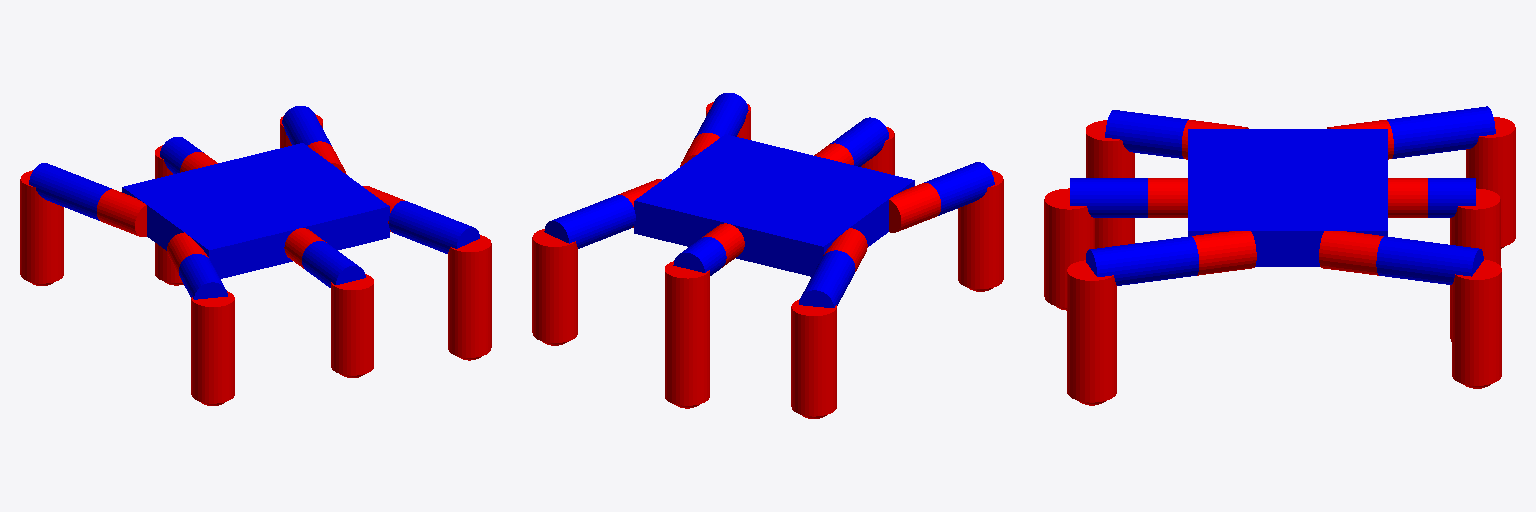
--- Render facts (derived) ---
Views: 3 orthographic renders of the robot side by side, from view 1: azimuth 30°, elevation 25°; view 2: azimuth 150°, elevation 25°; view 3: azimuth 270°, elevation 25°.
Robot: pexod — 19 links, 18 joints (18 revolute); root link base_link; default pose: every joint at zero.
Visible links, largest first — view 1: base_link, leg_3_3, leg_5_3, leg_4_3, leg_0_3, leg_3_2, leg_0_2, leg_4_2, leg_0_1, leg_5_2, leg_2_2, leg_1_3 (+3 smaller); view 2: base_link, leg_1_3, leg_0_3, leg_2_3, leg_5_3, leg_2_2, leg_0_2, leg_5_2, leg_5_1, leg_4_2, leg_3_2, leg_1_2 (+3 smaller); view 3: base_link, leg_3_3, leg_2_3, leg_4_3, leg_3_2, leg_0_2, leg_2_2, leg_0_3, leg_5_3, leg_4_2, leg_5_2, leg_1_3 (+6 smaller).
Link boxes in pixels (box(x1,y1,x2,y2)): base_link: box(122, 143, 389, 278); leg_3_3: box(448, 235, 491, 360); leg_5_3: box(191, 291, 234, 405); leg_4_3: box(331, 274, 373, 377); leg_0_3: box(20, 170, 63, 285); leg_3_2: box(389, 201, 479, 253); leg_0_2: box(29, 163, 111, 220); leg_4_2: box(302, 241, 365, 287); leg_0_1: box(97, 189, 146, 236); leg_5_2: box(179, 254, 227, 299); leg_2_2: box(282, 106, 331, 145); leg_1_3: box(155, 145, 183, 285); base_link: box(634, 134, 914, 276); leg_1_3: box(665, 261, 709, 408); leg_0_3: box(791, 299, 836, 418); leg_2_3: box(532, 229, 577, 345); leg_5_3: box(958, 170, 1003, 291); leg_2_2: box(544, 195, 635, 248); leg_0_2: box(799, 250, 855, 307); leg_5_2: box(924, 162, 994, 215); leg_5_1: box(889, 183, 940, 232); leg_4_2: box(830, 117, 888, 166); leg_3_2: box(694, 93, 748, 138); leg_1_2: box(673, 237, 726, 275); base_link: box(1188, 129, 1387, 266); leg_3_3: box(1067, 260, 1116, 405); leg_2_3: box(1452, 259, 1501, 388); leg_4_3: box(1044, 188, 1094, 310); leg_3_2: box(1086, 236, 1198, 285); leg_0_2: box(1387, 106, 1495, 158); leg_2_2: box(1376, 236, 1483, 284); leg_0_3: box(1466, 117, 1515, 248); leg_5_3: box(1086, 120, 1134, 248); leg_4_2: box(1070, 178, 1147, 217); leg_5_2: box(1105, 110, 1188, 158); leg_1_3: box(1450, 188, 1500, 341).
Bounding box of the posed robot: 0.3882 × 0.4705 × 0.1869 m (x, y, z).
Geometry: primitives only (box / cylinder / sphere), no mesh files.

URDF robot description (pexod):
<?xml version="1.0" ?>
<!-- =================================================================================== -->
<!-- |    This document was autogenerated by xacro from pexod.xacro                    | -->
<!-- |    EDITING THIS FILE BY HAND IS NOT RECOMMENDED                                 | -->
<!-- =================================================================================== -->
<robot name="pexod" xmlns:xacro="http://www.ros.org/wiki/xacro">
  <!-- <xacro:include filename="$(find pexod_description)/urdf/pexod_control.xacro" /> -->
  <!-- MATERIALS -->
  <material name="Blue">
    <color rgba="0 0 1 1"/>
  </material>
  <material name="Red">
    <color rgba="1 0 0 1"/>
  </material>
  <material name="Green">
    <color rgba="0 1 0 1"/>
  </material>
  <material name="Yellow">
    <color rgba="1 1 0 1"/>
  </material>
  <material name="LightGrey">
    <color rgba="0.6 0.6 0.6 1.0"/>
  </material>
  <!-- END OF MATERIALS -->
  <!-- XACRO MACROS FOR VISUALS AND COLLISIONS -->
  <!-- END OF XACRO MACROS -->
  <!-- TORSO -->
  <link name="base_link">
    <visual>
      <origin rpy="0 0 0" xyz="0 0 0"/>
      <geometry>
        <box size="0.24 0.2 0.04"/>
      </geometry>
      <material name="Blue"/>
    </visual>
    <collision>
      <origin rpy="0 0 0" xyz="0 0 0"/>
      <geometry>
        <box size="0.24 0.2 0.04"/>
      </geometry>
    </collision>
    <inertial>
      <!-- CENTER OF MASS -->
      <origin rpy="0 0 0" xyz="0 0 0"/>
      <mass value="1.031"/>
      <!-- box inertia: 1/12*m(y^2+z^2), ... -->
      <inertia ixx="0.00357413333333" ixy="0" ixz="0" iyy="0.00508626666667" iyz="0" izz="0.00838546666667"/>
    </inertial>
  </link>
  <!-- XACRO MACRO FOR LEGS LINKS/JOINTS -->
  <!-- END OF LEG LINKS/JOINTS -->
  <joint name="body_leg_2" type="revolute">
    <parent link="base_link"/>
    <child link="leg_2_1"/>
    <limit effort="30.0" lower="-1.57079632679" upper="1.57079632679" velocity="7.0"/>
    <origin rpy="0 0 -0.3" xyz="0.11 0.04 0"/>
    <!-- <xacro:if value="${index == 5 or index == 4 or index == 3}">
                <axis xyz="0 0 1"/>
            </xacro:if>
            <xacro:if value="${index == 2 or index == 1 or index == 0}"> -->
    <axis xyz="0 0 1"/>
    <!-- </xacro:if> -->
    <dynamics damping="0.0"/>
  </joint>
  <link name="leg_2_1">
    <visual>
      <origin rpy="1.57079632679 0 0" xyz="0.01 0.03 0"/>
      <geometry>
        <cylinder length="0.06" radius="0.02"/>
      </geometry>
      <material name="Red"/>
    </visual>
    <collision>
      <origin rpy="1.57079632679 0 0" xyz="0.01 0.03 0"/>
      <geometry>
        <box size="0.02 0.02 0.06"/>
      </geometry>
    </collision>
    <inertial>
      <!-- CENTER OF MASS -->
      <origin rpy="1.57079632679 0 0" xyz="0.01 0.03 0"/>
      <mass value="0.02"/>
      <!-- box inertia: 1/12*m(y^2+z^2), ... -->
      <inertia ixx="6.66666666667e-06" ixy="0" ixz="0" iyy="6.66666666667e-06" iyz="0" izz="1.33333333333e-06"/>
    </inertial>
  </link>
  <joint name="leg_2_1_2" type="revolute">
    <parent link="leg_2_1"/>
    <child link="leg_2_2"/>
    <limit effort="30.0" lower="-0.78539816339" upper="0.78539816339" velocity="7.0"/>
    <origin rpy="0 0 0" xyz="0 0.06 0"/>
    <axis xyz="1 0 0"/>
    <dynamics damping="0.0"/>
  </joint>
  <link name="leg_2_2">
    <visual>
      <origin rpy="1.57079632679 0 0" xyz="0.01 0.0499084490793 0"/>
      <geometry>
        <cylinder length="0.0998168981585" radius="0.02"/>
      </geometry>
      <material name="Blue"/>
    </visual>
    <collision>
      <origin rpy="1.57079632679 0 0" xyz="0.01 0.0499084490793 0"/>
      <geometry>
        <box size="0.02 0.02 0.0998168981585"/>
      </geometry>
    </collision>
    <inertial>
      <!-- CENTER OF MASS -->
      <origin rpy="1.57079632679 0 0" xyz="0.01 0.0499084490793 0"/>
      <mass value="0.184"/>
      <!-- box inertia: 1/12*m(y^2+z^2), ... -->
      <inertia ixx="0.000158905668422" ixy="0" ixz="0" iyy="0.000158905668422" iyz="0" izz="1.22666666667e-05"/>
    </inertial>
  </link>
  <joint name="leg_2_2_3" type="revolute">
    <parent link="leg_2_2"/>
    <child link="leg_2_3"/>
    <limit effort="30.0" lower="-0.78539816339" upper="0.78539816339" velocity="7.0"/>
    <origin rpy="-1.57079632679 0 0" xyz="0 0.0998168981585 0"/>
    <axis xyz="-1 0 0"/>
    <dynamics damping="0.0"/>
  </joint>
  <link name="leg_2_3">
    <visual>
      <origin rpy="1.57079632679 0 0" xyz="0.0125 0.0582914625825 0"/>
      <geometry>
        <cylinder length="0.116582925165" radius="0.025"/>
      </geometry>
      <material name="Red"/>
    </visual>
    <visual>
      <origin rpy="1.57079632679 0 0" xyz="0.0125 0.104082925165 0"/>
      <geometry>
        <sphere radius="0.025"/>
      </geometry>
      <material name="Red"/>
    </visual>
    <collision>
      <origin rpy="1.57079632679 0 0" xyz="0.0125 0.0582914625825 0"/>
      <geometry>
        <box size="0.025 0.025 0.116582925165"/>
      </geometry>
    </collision>
    <collision>
      <origin rpy="1.57079632679 0 0" xyz="0.0125 0.104082925165 0"/>
      <geometry>
        <sphere radius="0.025"/>
      </geometry>
      <material name="Red"/>
    </collision>
    <inertial>
      <!-- CENTER OF MASS -->
      <origin rpy="1.57079632679 0 0" xyz="0.0125 0.0582914625825 0"/>
      <mass value="0.04"/>
      <!-- box inertia: 1/12*m(y^2+z^2), ... -->
      <inertia ixx="4.73885948001e-05" ixy="0" ixz="0" iyy="4.73885948001e-05" iyz="0" izz="4.16666666667e-06"/>
    </inertial>
  </link>
  <joint name="body_leg_3" type="revolute">
    <parent link="base_link"/>
    <child link="leg_3_1"/>
    <limit effort="30.0" lower="-1.57079632679" upper="1.57079632679" velocity="7.0"/>
    <origin rpy="0 0 0.3" xyz="0.11 -0.04 0"/>
    <!-- <xacro:if value="${index == 5 or index == 4 or index == 3}">
                <axis xyz="0 0 1"/>
            </xacro:if>
            <xacro:if value="${index == 2 or index == 1 or index == 0}"> -->
    <axis xyz="0 0 1"/>
    <!-- </xacro:if> -->
    <dynamics damping="0.0"/>
  </joint>
  <link name="leg_3_1">
    <visual>
      <origin rpy="1.57079632679 0 0" xyz="0.01 -0.03 0"/>
      <geometry>
        <cylinder length="0.06" radius="0.02"/>
      </geometry>
      <material name="Red"/>
    </visual>
    <collision>
      <origin rpy="1.57079632679 0 0" xyz="0.01 -0.03 0"/>
      <geometry>
        <box size="0.02 0.02 0.06"/>
      </geometry>
    </collision>
    <inertial>
      <!-- CENTER OF MASS -->
      <origin rpy="1.57079632679 0 0" xyz="0.01 -0.03 0"/>
      <mass value="0.02"/>
      <!-- box inertia: 1/12*m(y^2+z^2), ... -->
      <inertia ixx="6.66666666667e-06" ixy="0" ixz="0" iyy="6.66666666667e-06" iyz="0" izz="1.33333333333e-06"/>
    </inertial>
  </link>
  <joint name="leg_3_1_2" type="revolute">
    <parent link="leg_3_1"/>
    <child link="leg_3_2"/>
    <limit effort="30.0" lower="-0.78539816339" upper="0.78539816339" velocity="7.0"/>
    <origin rpy="0 0 0" xyz="0 -0.06 0"/>
    <axis xyz="-1 0 0"/>
    <dynamics damping="0.0"/>
  </joint>
  <link name="leg_3_2">
    <visual>
      <origin rpy="1.57079632679 0 0" xyz="0.01 -0.053307925631 0"/>
      <geometry>
        <cylinder length="0.106615851262" radius="0.02"/>
      </geometry>
      <material name="Blue"/>
    </visual>
    <collision>
      <origin rpy="1.57079632679 0 0" xyz="0.01 -0.053307925631 0"/>
      <geometry>
        <box size="0.02 0.02 0.106615851262"/>
      </geometry>
    </collision>
    <inertial>
      <!-- CENTER OF MASS -->
      <origin rpy="1.57079632679 0 0" xyz="0.01 -0.053307925631 0"/>
      <mass value="0.184"/>
      <!-- box inertia: 1/12*m(y^2+z^2), ... -->
      <inertia ixx="0.000180426409352" ixy="0" ixz="0" iyy="0.000180426409352" iyz="0" izz="1.22666666667e-05"/>
    </inertial>
  </link>
  <joint name="leg_3_2_3" type="revolute">
    <parent link="leg_3_2"/>
    <child link="leg_3_3"/>
    <limit effort="30.0" lower="-0.78539816339" upper="0.78539816339" velocity="7.0"/>
    <origin rpy="1.57079632679 0 0" xyz="0 -0.106615851262 0"/>
    <axis xyz="1 0 0"/>
    <dynamics damping="0.0"/>
  </joint>
  <link name="leg_3_3">
    <visual>
      <origin rpy="1.57079632679 0 0" xyz="0.0125 -0.0670130568785 0"/>
      <geometry>
        <cylinder length="0.134026113757" radius="0.025"/>
      </geometry>
      <material name="Red"/>
    </visual>
    <visual>
      <origin rpy="1.57079632679 0 0" xyz="0.0125 -0.121526113757 0"/>
      <geometry>
        <sphere radius="0.025"/>
      </geometry>
      <material name="Red"/>
    </visual>
    <collision>
      <origin rpy="1.57079632679 0 0" xyz="0.0125 -0.0670130568785 0"/>
      <geometry>
        <box size="0.025 0.025 0.134026113757"/>
      </geometry>
    </collision>
    <collision>
      <origin rpy="1.57079632679 0 0" xyz="0.0125 -0.121526113757 0"/>
      <geometry>
        <sphere radius="0.025"/>
      </geometry>
      <material name="Red"/>
    </collision>
    <inertial>
      <!-- CENTER OF MASS -->
      <origin rpy="1.57079632679 0 0" xyz="0.0125 -0.0670130568785 0"/>
      <mass value="0.04"/>
      <!-- box inertia: 1/12*m(y^2+z^2), ... -->
      <inertia ixx="6.19599972293e-05" ixy="0" ixz="0" iyy="6.19599972293e-05" iyz="0" izz="4.16666666667e-06"/>
    </inertial>
  </link>
  <joint name="body_leg_0" type="revolute">
    <parent link="base_link"/>
    <child link="leg_0_1"/>
    <limit effort="30.0" lower="-1.57079632679" upper="1.57079632679" velocity="7.0"/>
    <origin rpy="0 0 0.3" xyz="-0.13 0.04 0"/>
    <!-- <xacro:if value="${index == 5 or index == 4 or index == 3}">
                <axis xyz="0 0 1"/>
            </xacro:if>
            <xacro:if value="${index == 2 or index == 1 or index == 0}"> -->
    <axis xyz="0 0 1"/>
    <!-- </xacro:if> -->
    <dynamics damping="0.0"/>
  </joint>
  <link name="leg_0_1">
    <visual>
      <origin rpy="1.57079632679 0 0" xyz="0.01 0.03 0"/>
      <geometry>
        <cylinder length="0.06" radius="0.02"/>
      </geometry>
      <material name="Red"/>
    </visual>
    <collision>
      <origin rpy="1.57079632679 0 0" xyz="0.01 0.03 0"/>
      <geometry>
        <box size="0.02 0.02 0.06"/>
      </geometry>
    </collision>
    <inertial>
      <!-- CENTER OF MASS -->
      <origin rpy="1.57079632679 0 0" xyz="0.01 0.03 0"/>
      <mass value="0.02"/>
      <!-- box inertia: 1/12*m(y^2+z^2), ... -->
      <inertia ixx="6.66666666667e-06" ixy="0" ixz="0" iyy="6.66666666667e-06" iyz="0" izz="1.33333333333e-06"/>
    </inertial>
  </link>
  <joint name="leg_0_1_2" type="revolute">
    <parent link="leg_0_1"/>
    <child link="leg_0_2"/>
    <limit effort="30.0" lower="-0.78539816339" upper="0.78539816339" velocity="7.0"/>
    <origin rpy="0 0 0" xyz="0 0.06 0"/>
    <axis xyz="1 0 0"/>
    <dynamics damping="0.0"/>
  </joint>
  <link name="leg_0_2">
    <visual>
      <origin rpy="1.57079632679 0 0" xyz="0.01 0.05312903378 0"/>
      <geometry>
        <cylinder length="0.10625806756" radius="0.02"/>
      </geometry>
      <material name="Blue"/>
    </visual>
    <collision>
      <origin rpy="1.57079632679 0 0" xyz="0.01 0.05312903378 0"/>
      <geometry>
        <box size="0.02 0.02 0.10625806756"/>
      </geometry>
    </collision>
    <inertial>
      <!-- CENTER OF MASS -->
      <origin rpy="1.57079632679 0 0" xyz="0.01 0.05312903378 0"/>
      <mass value="0.184"/>
      <!-- box inertia: 1/12*m(y^2+z^2), ... -->
      <inertia ixx="0.000179258579464" ixy="0" ixz="0" iyy="0.000179258579464" iyz="0" izz="1.22666666667e-05"/>
    </inertial>
  </link>
  <joint name="leg_0_2_3" type="revolute">
    <parent link="leg_0_2"/>
    <child link="leg_0_3"/>
    <limit effort="30.0" lower="-0.78539816339" upper="0.78539816339" velocity="7.0"/>
    <origin rpy="-1.57079632679 0 0" xyz="0 0.10625806756 0"/>
    <axis xyz="-1 0 0"/>
    <dynamics damping="0.0"/>
  </joint>
  <link name="leg_0_3">
    <visual>
      <origin rpy="1.57079632679 0 0" xyz="0.0125 0.0608442086425 0"/>
      <geometry>
        <cylinder length="0.121688417285" radius="0.025"/>
      </geometry>
      <material name="Red"/>
    </visual>
    <visual>
      <origin rpy="1.57079632679 0 0" xyz="0.0125 0.109188417285 0"/>
      <geometry>
        <sphere radius="0.025"/>
      </geometry>
      <material name="Red"/>
    </visual>
    <collision>
      <origin rpy="1.57079632679 0 0" xyz="0.0125 0.0608442086425 0"/>
      <geometry>
        <box size="0.025 0.025 0.121688417285"/>
      </geometry>
    </collision>
    <collision>
      <origin rpy="1.57079632679 0 0" xyz="0.0125 0.109188417285 0"/>
      <geometry>
        <sphere radius="0.025"/>
      </geometry>
      <material name="Red"/>
    </collision>
    <inertial>
      <!-- CENTER OF MASS -->
      <origin rpy="1.57079632679 0 0" xyz="0.0125 0.0608442086425 0"/>
      <mass value="0.04"/>
      <!-- box inertia: 1/12*m(y^2+z^2), ... -->
      <inertia ixx="5.14435696711e-05" ixy="0" ixz="0" iyy="5.14435696711e-05" iyz="0" izz="4.16666666667e-06"/>
    </inertial>
  </link>
  <joint name="body_leg_5" type="revolute">
    <parent link="base_link"/>
    <child link="leg_5_1"/>
    <limit effort="30.0" lower="-1.57079632679" upper="1.57079632679" velocity="7.0"/>
    <origin rpy="0 0 -0.3" xyz="-0.13 -0.04 0"/>
    <!-- <xacro:if value="${index == 5 or index == 4 or index == 3}">
                <axis xyz="0 0 1"/>
            </xacro:if>
            <xacro:if value="${index == 2 or index == 1 or index == 0}"> -->
    <axis xyz="0 0 1"/>
    <!-- </xacro:if> -->
    <dynamics damping="0.0"/>
  </joint>
  <link name="leg_5_1">
    <visual>
      <origin rpy="1.57079632679 0 0" xyz="0.01 -0.03 0"/>
      <geometry>
        <cylinder length="0.06" radius="0.02"/>
      </geometry>
      <material name="Red"/>
    </visual>
    <collision>
      <origin rpy="1.57079632679 0 0" xyz="0.01 -0.03 0"/>
      <geometry>
        <box size="0.02 0.02 0.06"/>
      </geometry>
    </collision>
    <inertial>
      <!-- CENTER OF MASS -->
      <origin rpy="1.57079632679 0 0" xyz="0.01 -0.03 0"/>
      <mass value="0.02"/>
      <!-- box inertia: 1/12*m(y^2+z^2), ... -->
      <inertia ixx="6.66666666667e-06" ixy="0" ixz="0" iyy="6.66666666667e-06" iyz="0" izz="1.33333333333e-06"/>
    </inertial>
  </link>
  <joint name="leg_5_1_2" type="revolute">
    <parent link="leg_5_1"/>
    <child link="leg_5_2"/>
    <limit effort="30.0" lower="-0.78539816339" upper="0.78539816339" velocity="7.0"/>
    <origin rpy="0 0 0" xyz="0 -0.06 0"/>
    <axis xyz="-1 0 0"/>
    <dynamics damping="0.0"/>
  </joint>
  <link name="leg_5_2">
    <visual>
      <origin rpy="1.57079632679 0 0" xyz="0.01 -0.0398752735873 0"/>
      <geometry>
        <cylinder length="0.0797505471746" radius="0.02"/>
      </geometry>
      <material name="Blue"/>
    </visual>
    <collision>
      <origin rpy="1.57079632679 0 0" xyz="0.01 -0.0398752735873 0"/>
      <geometry>
        <box size="0.02 0.02 0.0797505471746"/>
      </geometry>
    </collision>
    <inertial>
      <!-- CENTER OF MASS -->
      <origin rpy="1.57079632679 0 0" xyz="0.01 -0.0398752735873 0"/>
      <mass value="0.184"/>
      <!-- box inertia: 1/12*m(y^2+z^2), ... -->
      <inertia ixx="0.000103655629878" ixy="0" ixz="0" iyy="0.000103655629878" iyz="0" izz="1.22666666667e-05"/>
    </inertial>
  </link>
  <joint name="leg_5_2_3" type="revolute">
    <parent link="leg_5_2"/>
    <child link="leg_5_3"/>
    <limit effort="30.0" lower="-0.78539816339" upper="0.78539816339" velocity="7.0"/>
    <origin rpy="1.57079632679 0 0" xyz="0 -0.0797505471746 0"/>
    <axis xyz="1 0 0"/>
    <dynamics damping="0.0"/>
  </joint>
  <link name="leg_5_3">
    <visual>
      <origin rpy="1.57079632679 0 0" xyz="0.0125 -0.0612422007695 0"/>
      <geometry>
        <cylinder length="0.122484401539" radius="0.025"/>
      </geometry>
      <material name="Red"/>
    </visual>
    <visual>
      <origin rpy="1.57079632679 0 0" xyz="0.0125 -0.109984401539 0"/>
      <geometry>
        <sphere radius="0.025"/>
      </geometry>
      <material name="Red"/>
    </visual>
    <collision>
      <origin rpy="1.57079632679 0 0" xyz="0.0125 -0.0612422007695 0"/>
      <geometry>
        <box size="0.025 0.025 0.122484401539"/>
      </geometry>
    </collision>
    <collision>
      <origin rpy="1.57079632679 0 0" xyz="0.0125 -0.109984401539 0"/>
      <geometry>
        <sphere radius="0.025"/>
      </geometry>
      <material name="Red"/>
    </collision>
    <inertial>
      <!-- CENTER OF MASS -->
      <origin rpy="1.57079632679 0 0" xyz="0.0125 -0.0612422007695 0"/>
      <mass value="0.04"/>
      <!-- box inertia: 1/12*m(y^2+z^2), ... -->
      <inertia ixx="5.20914287346e-05" ixy="0" ixz="0" iyy="5.20914287346e-05" iyz="0" izz="4.16666666667e-06"/>
    </inertial>
  </link>
  <joint name="body_leg_1" type="revolute">
    <parent link="base_link"/>
    <child link="leg_1_1"/>
    <limit effort="30.0" lower="-1.57079632679" upper="1.57079632679" velocity="7.0"/>
    <origin rpy="0 0 0" xyz="-0.01 0.08 0"/>
    <!-- <xacro:if value="${index == 5 or index == 4 or index == 3}">
                <axis xyz="0 0 1"/>
            </xacro:if>
            <xacro:if value="${index == 2 or index == 1 or index == 0}"> -->
    <axis xyz="0 0 1"/>
    <!-- </xacro:if> -->
    <dynamics damping="0.0"/>
  </joint>
  <link name="leg_1_1">
    <visual>
      <origin rpy="1.57079632679 0 0" xyz="0.01 0.03 0"/>
      <geometry>
        <cylinder length="0.06" radius="0.02"/>
      </geometry>
      <material name="Red"/>
    </visual>
    <collision>
      <origin rpy="1.57079632679 0 0" xyz="0.01 0.03 0"/>
      <geometry>
        <box size="0.02 0.02 0.06"/>
      </geometry>
    </collision>
    <inertial>
      <!-- CENTER OF MASS -->
      <origin rpy="1.57079632679 0 0" xyz="0.01 0.03 0"/>
      <mass value="0.02"/>
      <!-- box inertia: 1/12*m(y^2+z^2), ... -->
      <inertia ixx="6.66666666667e-06" ixy="0" ixz="0" iyy="6.66666666667e-06" iyz="0" izz="1.33333333333e-06"/>
    </inertial>
  </link>
  <joint name="leg_1_1_2" type="revolute">
    <parent link="leg_1_1"/>
    <child link="leg_1_2"/>
    <limit effort="30.0" lower="-0.78539816339" upper="0.78539816339" velocity="7.0"/>
    <origin rpy="0 0 0" xyz="0 0.06 0"/>
    <axis xyz="1 0 0"/>
    <dynamics damping="0.0"/>
  </joint>
  <link name="leg_1_2">
    <visual>
      <origin rpy="1.57079632679 0 0" xyz="0.01 0.0237287173397 0"/>
      <geometry>
        <cylinder length="0.0474574346794" radius="0.02"/>
      </geometry>
      <material name="Blue"/>
    </visual>
    <collision>
      <origin rpy="1.57079632679 0 0" xyz="0.01 0.0237287173397 0"/>
      <geometry>
        <box size="0.02 0.02 0.0474574346794"/>
      </geometry>
    </collision>
    <inertial>
      <!-- CENTER OF MASS -->
      <origin rpy="1.57079632679 0 0" xyz="0.01 0.0237287173397 0"/>
      <mass value="0.184"/>
      <!-- box inertia: 1/12*m(y^2+z^2), ... -->
      <inertia ixx="4.0667190964e-05" ixy="0" ixz="0" iyy="4.0667190964e-05" iyz="0" izz="1.22666666667e-05"/>
    </inertial>
  </link>
  <joint name="leg_1_2_3" type="revolute">
    <parent link="leg_1_2"/>
    <child link="leg_1_3"/>
    <limit effort="30.0" lower="-0.78539816339" upper="0.78539816339" velocity="7.0"/>
    <origin rpy="-1.57079632679 0 0" xyz="0 0.0474574346794 0"/>
    <axis xyz="-1 0 0"/>
    <dynamics damping="0.0"/>
  </joint>
  <link name="leg_1_3">
    <visual>
      <origin rpy="1.57079632679 0 0" xyz="0.0125 0.0771777180575 0"/>
      <geometry>
        <cylinder length="0.154355436115" radius="0.025"/>
      </geometry>
      <material name="Red"/>
    </visual>
    <visual>
      <origin rpy="1.57079632679 0 0" xyz="0.0125 0.141855436115 0"/>
      <geometry>
        <sphere radius="0.025"/>
      </geometry>
      <material name="Red"/>
    </visual>
    <collision>
      <origin rpy="1.57079632679 0 0" xyz="0.0125 0.0771777180575 0"/>
      <geometry>
        <box size="0.025 0.025 0.154355436115"/>
      </geometry>
    </collision>
    <collision>
      <origin rpy="1.57079632679 0 0" xyz="0.0125 0.141855436115 0"/>
      <geometry>
        <sphere radius="0.025"/>
      </geometry>
      <material name="Red"/>
    </collision>
    <inertial>
      <!-- CENTER OF MASS -->
      <origin rpy="1.57079632679 0 0" xyz="0.0125 0.0771777180575 0"/>
      <mass value="0.04"/>
      <!-- box inertia: 1/12*m(y^2+z^2), ... -->
      <inertia ixx="8.15020021942e-05" ixy="0" ixz="0" iyy="8.15020021942e-05" iyz="0" izz="4.16666666667e-06"/>
    </inertial>
  </link>
  <joint name="body_leg_4" type="revolute">
    <parent link="base_link"/>
    <child link="leg_4_1"/>
    <limit effort="30.0" lower="-1.57079632679" upper="1.57079632679" velocity="7.0"/>
    <origin rpy="0 0 0" xyz="-0.01 -0.08 0"/>
    <!-- <xacro:if value="${index == 5 or index == 4 or index == 3}">
                <axis xyz="0 0 1"/>
            </xacro:if>
            <xacro:if value="${index == 2 or index == 1 or index == 0}"> -->
    <axis xyz="0 0 1"/>
    <!-- </xacro:if> -->
    <dynamics damping="0.0"/>
  </joint>
  <link name="leg_4_1">
    <visual>
      <origin rpy="1.57079632679 0 0" xyz="0.01 -0.03 0"/>
      <geometry>
        <cylinder length="0.06" radius="0.02"/>
      </geometry>
      <material name="Red"/>
    </visual>
    <collision>
      <origin rpy="1.57079632679 0 0" xyz="0.01 -0.03 0"/>
      <geometry>
        <box size="0.02 0.02 0.06"/>
      </geometry>
    </collision>
    <inertial>
      <!-- CENTER OF MASS -->
      <origin rpy="1.57079632679 0 0" xyz="0.01 -0.03 0"/>
      <mass value="0.02"/>
      <!-- box inertia: 1/12*m(y^2+z^2), ... -->
      <inertia ixx="6.66666666667e-06" ixy="0" ixz="0" iyy="6.66666666667e-06" iyz="0" izz="1.33333333333e-06"/>
    </inertial>
  </link>
  <joint name="leg_4_1_2" type="revolute">
    <parent link="leg_4_1"/>
    <child link="leg_4_2"/>
    <limit effort="30.0" lower="-0.78539816339" upper="0.78539816339" velocity="7.0"/>
    <origin rpy="0 0 0" xyz="0 -0.06 0"/>
    <axis xyz="-1 0 0"/>
    <dynamics damping="0.0"/>
  </joint>
  <link name="leg_4_2">
    <visual>
      <origin rpy="1.57079632679 0 0" xyz="0.01 -0.0390413170822 0"/>
      <geometry>
        <cylinder length="0.0780826341644" radius="0.02"/>
      </geometry>
      <material name="Blue"/>
    </visual>
    <collision>
      <origin rpy="1.57079632679 0 0" xyz="0.01 -0.0390413170822 0"/>
      <geometry>
        <box size="0.02 0.02 0.0780826341644"/>
      </geometry>
    </collision>
    <inertial>
      <!-- CENTER OF MASS -->
      <origin rpy="1.57079632679 0 0" xyz="0.01 -0.0390413170822 0"/>
      <mass value="0.184"/>
      <!-- box inertia: 1/12*m(y^2+z^2), ... -->
      <inertia ixx="9.96190989568e-05" ixy="0" ixz="0" iyy="9.96190989568e-05" iyz="0" izz="1.22666666667e-05"/>
    </inertial>
  </link>
  <joint name="leg_4_2_3" type="revolute">
    <parent link="leg_4_2"/>
    <child link="leg_4_3"/>
    <limit effort="30.0" lower="-0.78539816339" upper="0.78539816339" velocity="7.0"/>
    <origin rpy="1.57079632679 0 0" xyz="0 -0.0780826341644 0"/>
    <axis xyz="1 0 0"/>
    <dynamics damping="0.0"/>
  </joint>
  <link name="leg_4_3">
    <visual>
      <origin rpy="1.57079632679 0 0" xyz="0.0125 -0.0540986629555 0"/>
      <geometry>
        <cylinder length="0.108197325911" radius="0.025"/>
      </geometry>
      <material name="Red"/>
    </visual>
    <visual>
      <origin rpy="1.57079632679 0 0" xyz="0.0125 -0.095697325911 0"/>
      <geometry>
        <sphere radius="0.025"/>
      </geometry>
      <material name="Red"/>
    </visual>
    <collision>
      <origin rpy="1.57079632679 0 0" xyz="0.0125 -0.0540986629555 0"/>
      <geometry>
        <box size="0.025 0.025 0.108197325911"/>
      </geometry>
    </collision>
    <collision>
      <origin rpy="1.57079632679 0 0" xyz="0.0125 -0.095697325911 0"/>
      <geometry>
        <sphere radius="0.025"/>
      </geometry>
      <material name="Red"/>
    </collision>
    <inertial>
      <!-- CENTER OF MASS -->
      <origin rpy="1.57079632679 0 0" xyz="0.0125 -0.0540986629555 0"/>
      <mass value="0.04"/>
      <!-- box inertia: 1/12*m(y^2+z^2), ... -->
      <inertia ixx="4.1105537781e-05" ixy="0" ixz="0" iyy="4.1105537781e-05" iyz="0" izz="4.16666666667e-06"/>
    </inertial>
  </link>
  <!-- END OF LEG LINKS/JOINTS -->
</robot>
